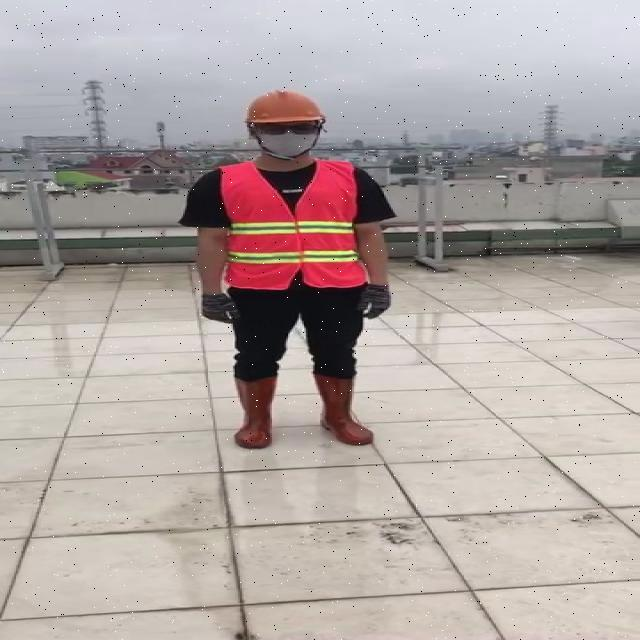Hard_hat: (239, 85, 335, 133)
Vest: (218, 156, 365, 292)
